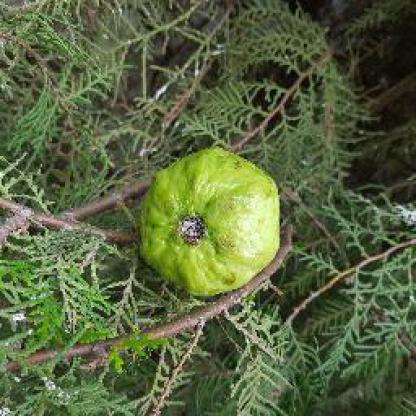guava: (136, 148, 282, 299)
